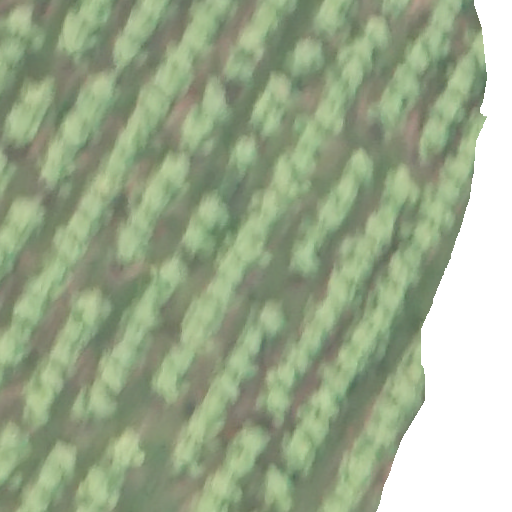eucalipto: (74, 467, 122, 512), (151, 51, 194, 101), (38, 438, 75, 491), (59, 14, 100, 61), (105, 431, 148, 474), (181, 295, 227, 335), (179, 113, 220, 157), (5, 196, 46, 240), (254, 383, 295, 427), (74, 386, 120, 423), (234, 226, 273, 268), (71, 290, 113, 329), (196, 80, 235, 122), (251, 94, 289, 137), (182, 216, 217, 262), (1, 107, 39, 149), (283, 432, 316, 480), (178, 317, 217, 356), (84, 71, 124, 109), (262, 463, 293, 512), (247, 189, 284, 230), (57, 111, 94, 152), (175, 28, 213, 66), (134, 86, 173, 123), (386, 70, 421, 111), (53, 226, 88, 267), (306, 388, 344, 425), (288, 37, 326, 74), (222, 49, 260, 86), (152, 258, 192, 293), (448, 61, 483, 100), (236, 23, 275, 58), (359, 12, 394, 51), (108, 38, 148, 72), (113, 228, 149, 265), (340, 148, 375, 186), (156, 153, 193, 188), (228, 133, 261, 172), (197, 194, 230, 233), (13, 294, 48, 330), (35, 361, 71, 396), (159, 345, 197, 378), (208, 473, 246, 505), (387, 252, 421, 287), (150, 370, 184, 405), (236, 424, 272, 457), (296, 411, 328, 448), (341, 234, 378, 266), (65, 209, 102, 241), (111, 340, 145, 374), (328, 272, 361, 307), (255, 304, 288, 339), (321, 79, 356, 112), (19, 483, 58, 512), (188, 411, 220, 446), (89, 172, 124, 204), (1, 330, 31, 367), (432, 91, 465, 124), (316, 100, 348, 134), (383, 172, 418, 203), (144, 180, 175, 215), (101, 355, 131, 391), (171, 440, 202, 474), (127, 208, 162, 238), (338, 56, 368, 91), (421, 202, 458, 230), (411, 222, 442, 255), (289, 242, 320, 275), (212, 375, 244, 406), (314, 200, 346, 231), (318, 365, 351, 395), (349, 326, 379, 359), (365, 213, 395, 246), (120, 325, 155, 353), (225, 446, 257, 476), (236, 326, 266, 358), (376, 95, 406, 127), (205, 278, 239, 306), (318, 297, 343, 335), (289, 148, 320, 178), (372, 284, 404, 313), (423, 121, 452, 153), (364, 306, 394, 336), (332, 177, 360, 207), (112, 143, 141, 171), (228, 351, 258, 378), (405, 43, 430, 75), (345, 260, 374, 287), (441, 157, 472, 182), (302, 330, 328, 359), (298, 220, 329, 244), (436, 180, 461, 204), (315, 496, 352, 512)
